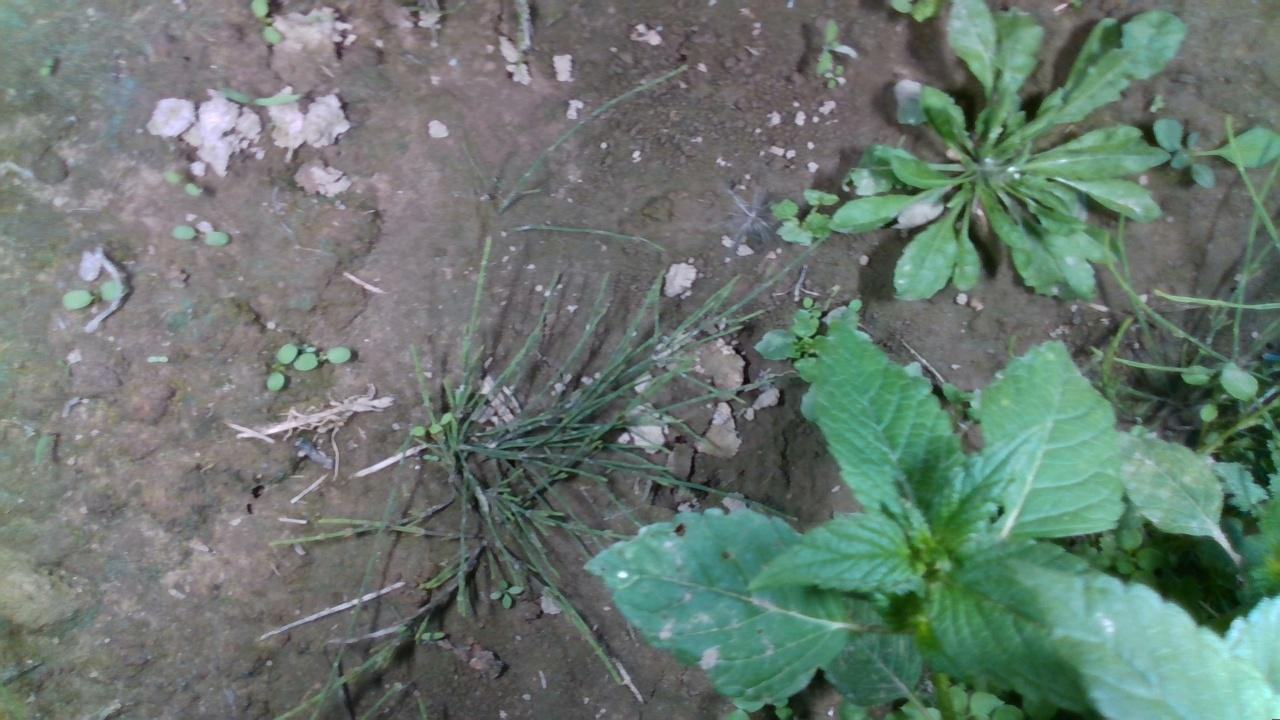weed: (57, 277, 120, 312), (169, 222, 231, 247), (162, 169, 203, 198)
